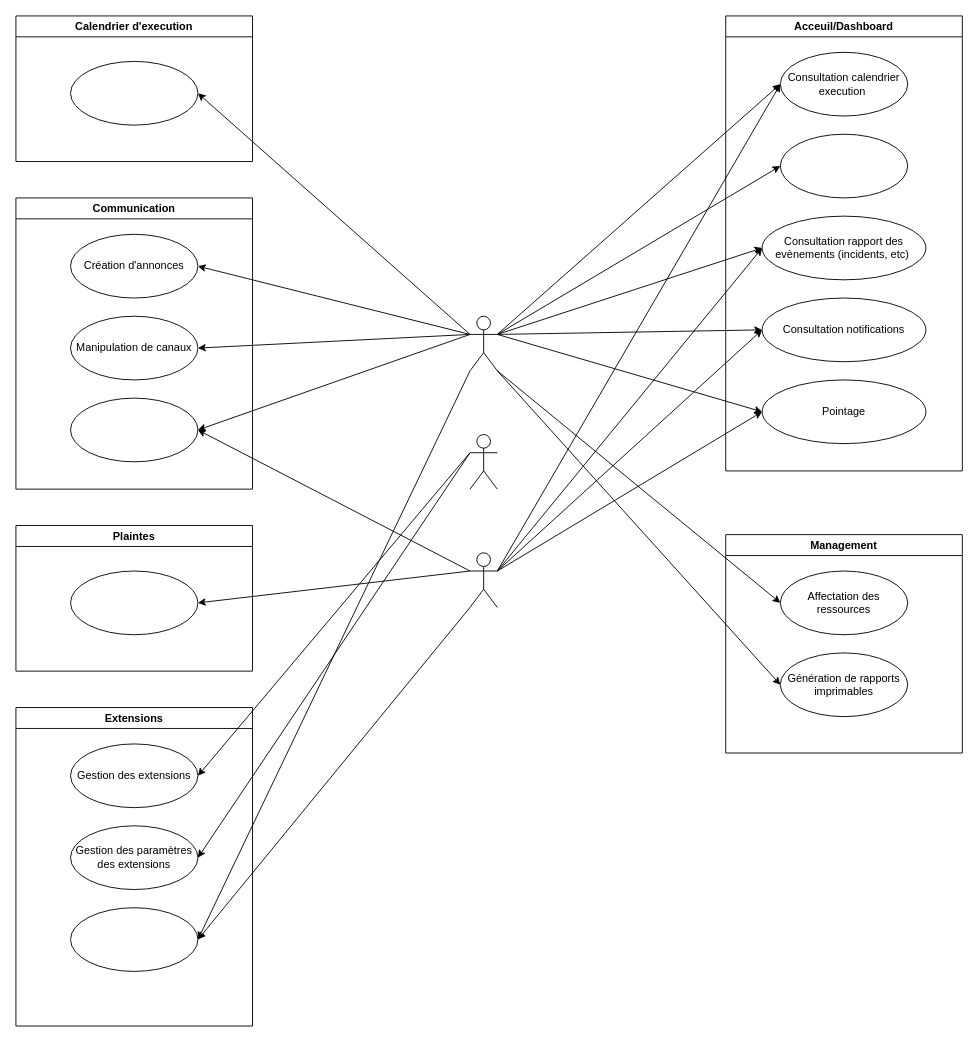
The diagram is 978 pixels wide and 1042 high, and some of its shapes have lost their labels. Here are the shapes that lost their labels. From the top down, the centre of each, then its label:
At (x=134, y=93): "Gestion des taches".
At (x=843, y=165): "Consultation rapport dépenses".
At (x=483, y=343): "Maitre de chantier".
At (x=134, y=429): "Discussion sur cannaux".
At (x=483, y=461): "Administrateur".
At (x=483, y=579): "Ouvrier/artisan".
At (x=134, y=602): "Création de plaintes".
At (x=134, y=939): "Accès aux extensions actives".
